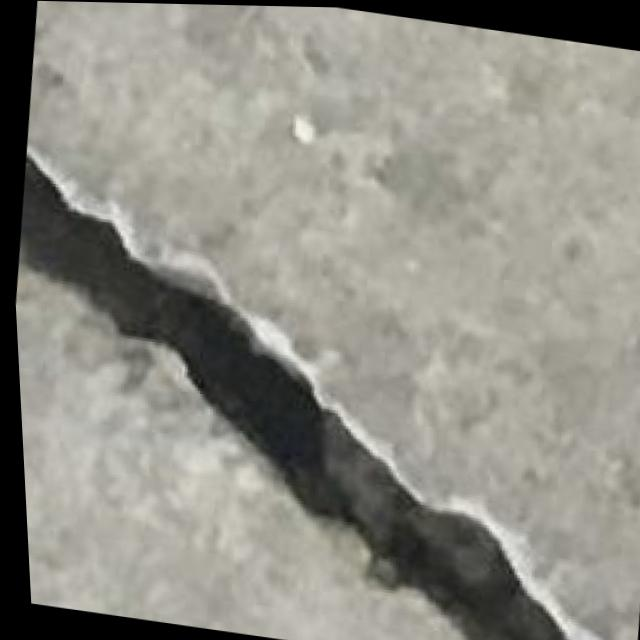Crack: (13, 167, 640, 640)
